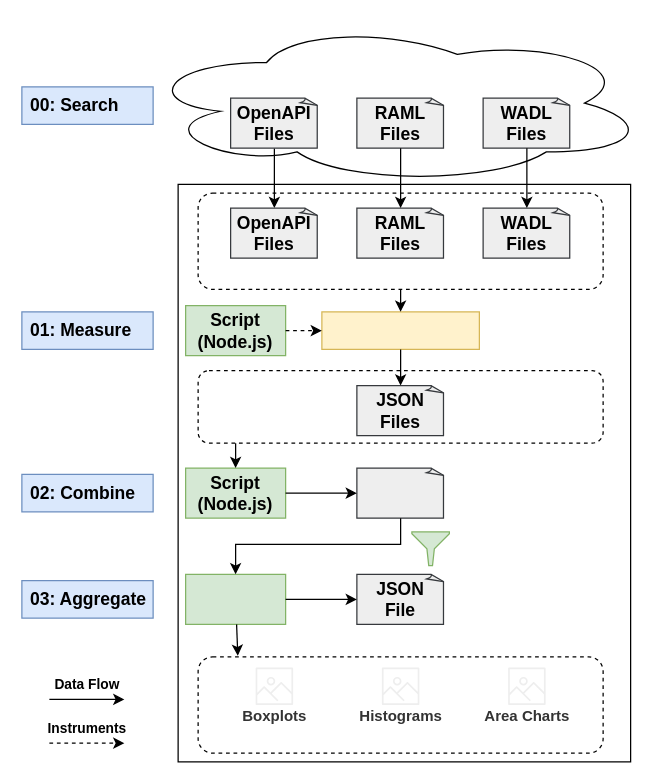
The diagram is 670 pixels wide and 784 high, and some of its shapes have lost their labels. Each missing label, with the box of its shape:
Benchmark Repository: (197, 192, 603, 289)
CSV File: (356, 467, 444, 518)
Diagrams per Metric: (197, 656, 603, 753)
Metric Results per API: (197, 369, 603, 443)
Optional: Filter: (411, 531, 449, 566)
Public API Descriptions: (138, 21, 648, 184)
RAMA CLI: (321, 311, 479, 349)
Script (Python): (184, 573, 286, 624)
